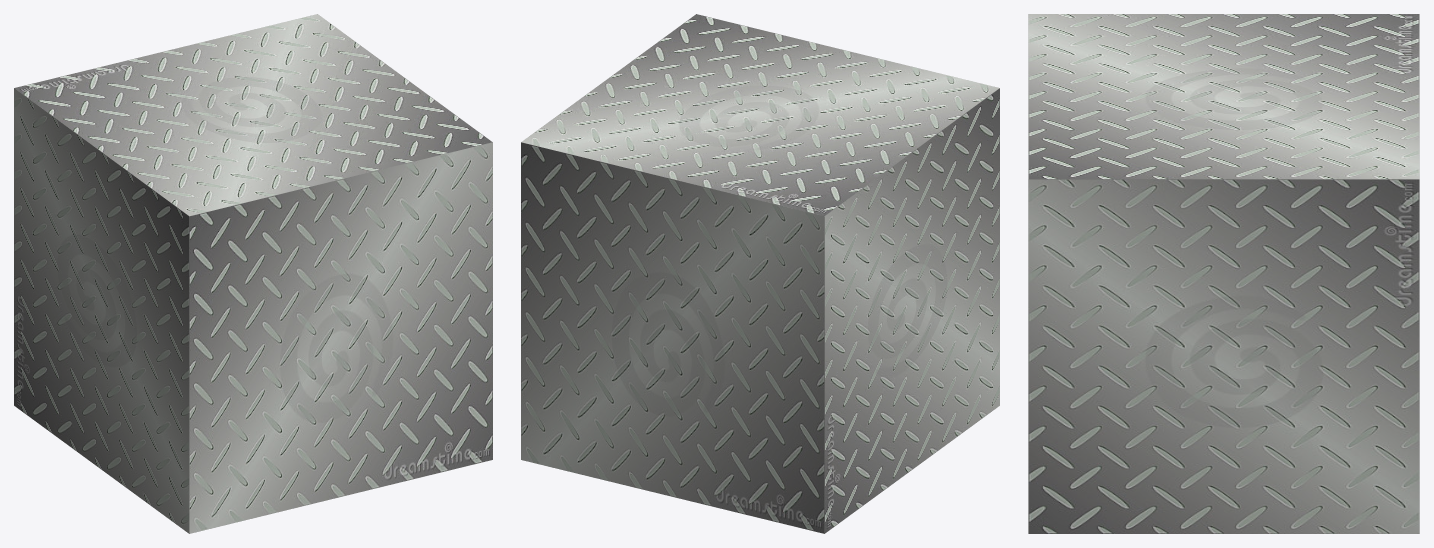
File: cuboMax2.DAE
3 views of the same model, side by side, from view 1: azimuth 30°, elevation 25°; view 2: azimuth 150°, elevation 25°; view 3: azimuth 270°, elevation 25° (orthographic). The views are drawn at different scales.
Parts seen in each view (by area): view 1: Box001; view 2: Box001; view 3: Box001.
Part boxes in pixels (<box>): Box001: <box>14,14,492,533</box>; Box001: <box>521,14,999,533</box>; Box001: <box>1028,14,1419,533</box>.
Bounding box in the file's own units: 1 × 1 × 1.
Materials: 1 (1 with a texture image).
